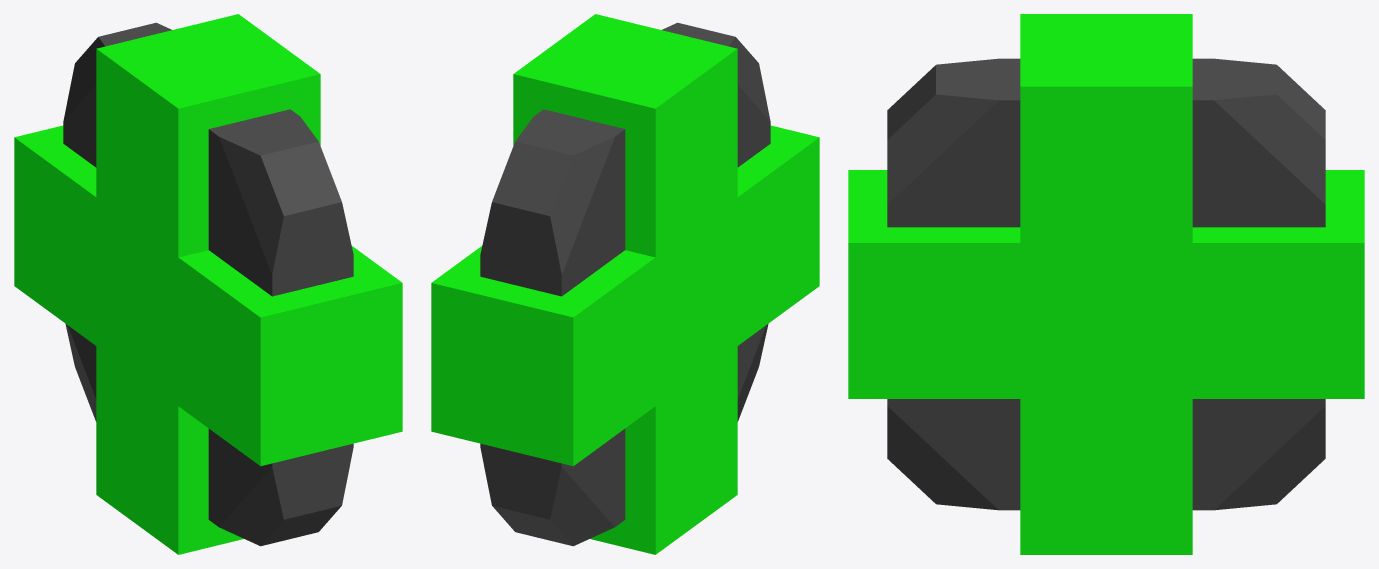
The model's file is medkit.gltf.
3 views of the same model, side by side, from view 1: azimuth 30°, elevation 25°; view 2: azimuth 150°, elevation 25°; view 3: azimuth 270°, elevation 25° (orthographic). The views are drawn at different scales.
Parts seen in each view (by area): view 1: Cross, Case; view 2: Cross, Case; view 3: Cross, Case.
Boxes of the visible parts, x1,y1,x2,y2 form: Cross: (14,14,402,554); Case: (63,22,353,546); Cross: (431,14,819,554); Case: (480,22,770,546); Cross: (848,14,1364,554); Case: (887,58,1325,510).
Bounding box in the file's own units: 0.1524 × 0.4572 × 0.4572.
